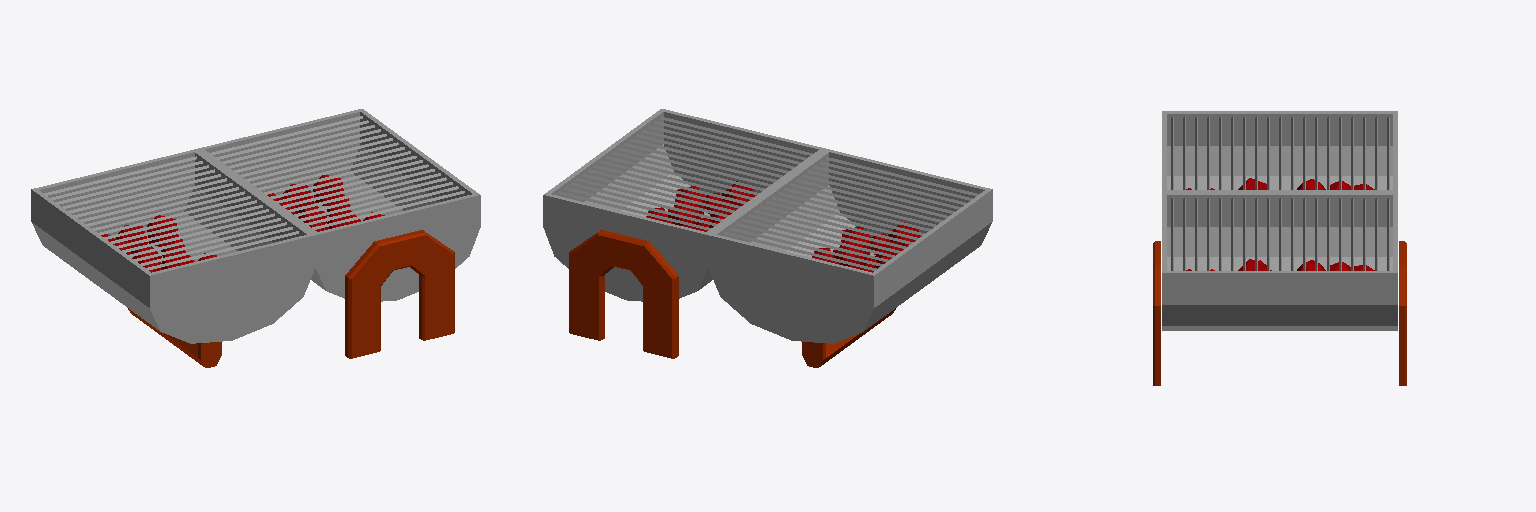
The model's file is grilli.obj.
3 renders of one model, left to right at view 1: azimuth 30°, elevation 25°; view 2: azimuth 150°, elevation 25°; view 3: azimuth 270°, elevation 25°, orthographic.
Parts seen in each view (by area): view 1: Grilli_Icosphere, GrilliJalat_Icosphere.004, Hiilet_Icosphere.002; view 2: Grilli_Icosphere, GrilliJalat_Icosphere.004, Hiilet_Icosphere.002; view 3: Grilli_Icosphere, GrilliJalat_Icosphere.004, Hiilet_Icosphere.002.
Part boxes in pixels (bbox=[...]): Grilli_Icosphere: bbox=[31, 109, 480, 343]; GrilliJalat_Icosphere.004: bbox=[128, 230, 454, 367]; Hiilet_Icosphere.002: bbox=[101, 175, 384, 272]; Grilli_Icosphere: bbox=[543, 109, 992, 343]; GrilliJalat_Icosphere.004: bbox=[569, 230, 895, 367]; Hiilet_Icosphere.002: bbox=[646, 181, 920, 272]; Grilli_Icosphere: bbox=[1162, 111, 1397, 330]; GrilliJalat_Icosphere.004: bbox=[1153, 241, 1406, 385]; Hiilet_Icosphere.002: bbox=[1186, 178, 1374, 270].
Bounding box in the file's own units: 1.37 × 0.5063 × 0.915.